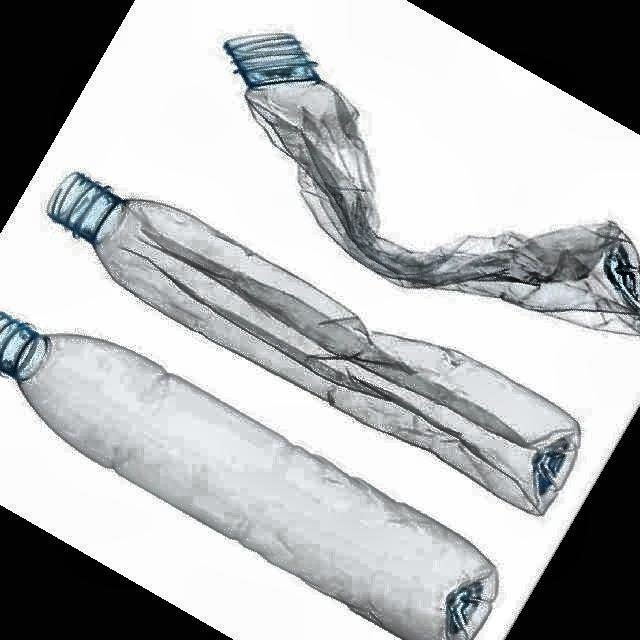plastic: (49, 172, 580, 514), (0, 313, 498, 640), (225, 35, 640, 333)
